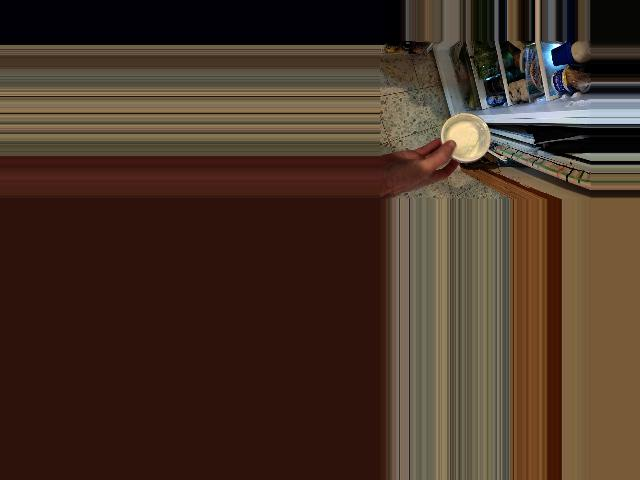cotage: (440, 117, 490, 167)
